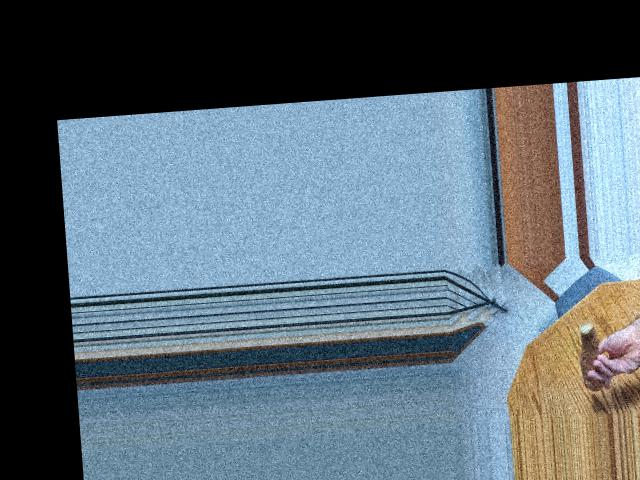sweet_potato: (576, 320, 609, 393)
